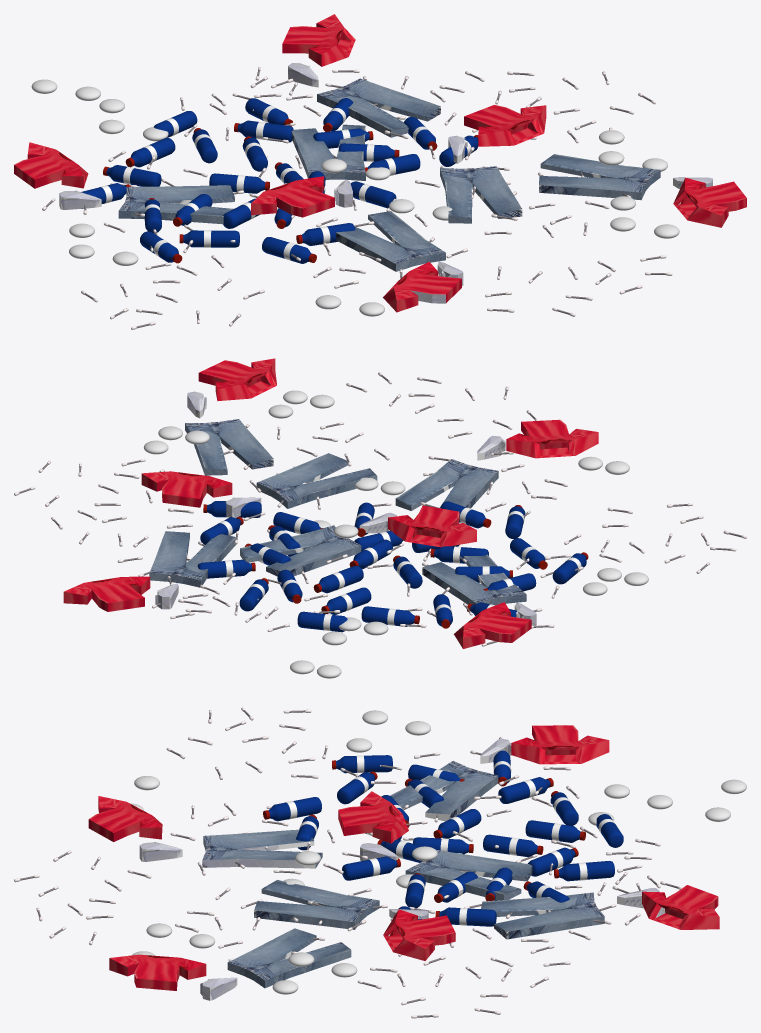
Rendered from genskrald2.fbx.
3 views of the same model, one above another, from view 1: azimuth 30°, elevation 25°; view 2: azimuth 150°, elevation 25°; view 3: azimuth 270°, elevation 25° (orthographic). The views are drawn at different scales.
Parts seen in each view (by area): view 1: Cylinder.001; view 2: Cylinder.001; view 3: Cylinder.001.
Part boxes in pixels (box(x1,y1,x2,y2)): Cylinder.001: box(14, 14, 746, 329); Cylinder.001: box(14, 358, 746, 678); Cylinder.001: box(14, 707, 746, 1018).
Bounding box in the file's own units: 214 × 8.78 × 215.
9 materials, 3 textured.
